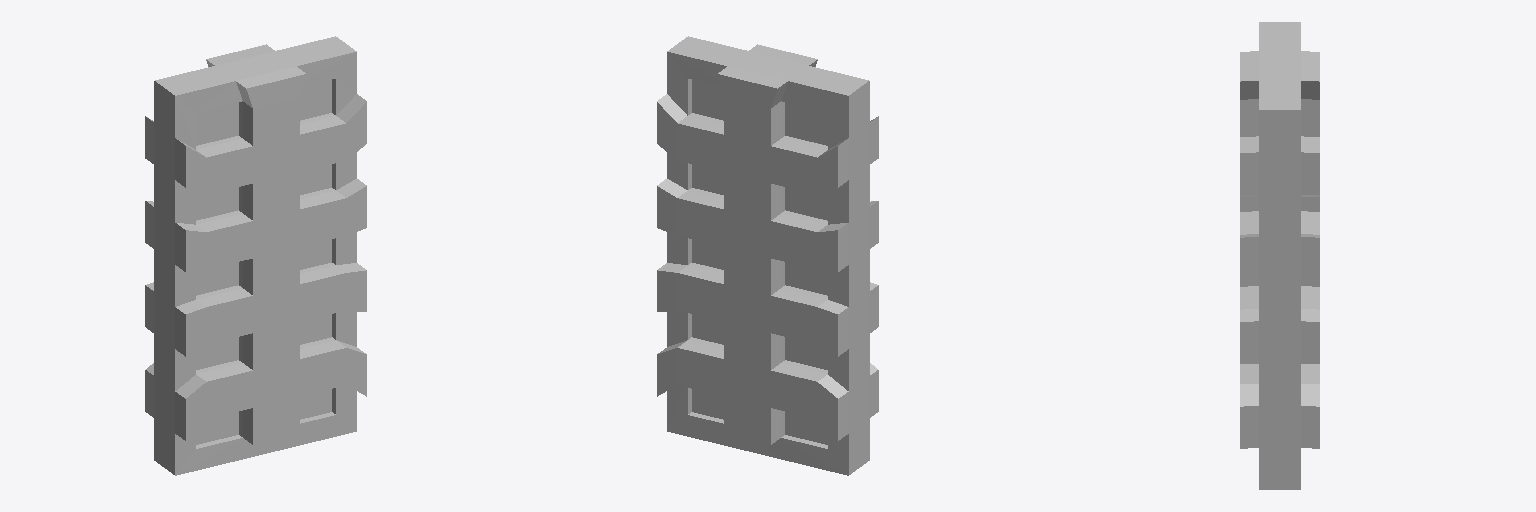
The model's file is door.obj.
3 renders of one model, left to right at view 1: azimuth 30°, elevation 25°; view 2: azimuth 150°, elevation 25°; view 3: azimuth 270°, elevation 25°, orthographic.
Visible parts, largest first — view 1: Door; view 2: Door; view 3: Door.
Boxes of the visible parts, box(x1,y1,x2,y2) form: Door: box(145, 36, 366, 475); Door: box(657, 36, 878, 475); Door: box(1240, 22, 1319, 489).
Size of the model in its own units: 2.01 by 4 by 0.7705.